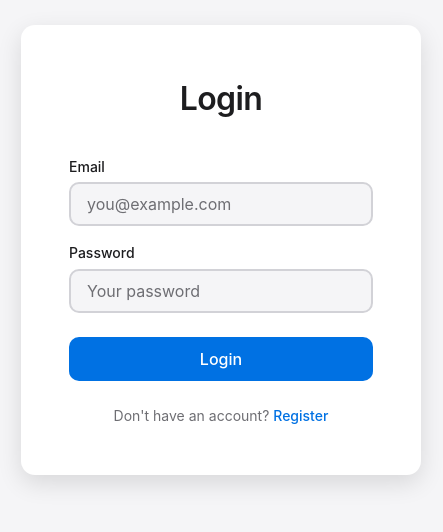
Scenario: LoginPage › shows error when email is empty
Step 1. Click the button "Login" → (221, 359), box [69,337,373,381]
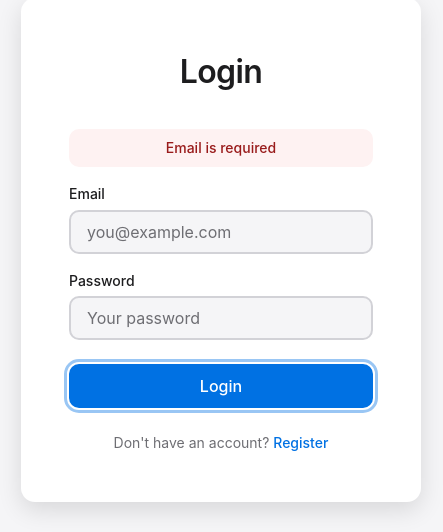
Expected: the message reads "Email is required", [166,139,276,156]
